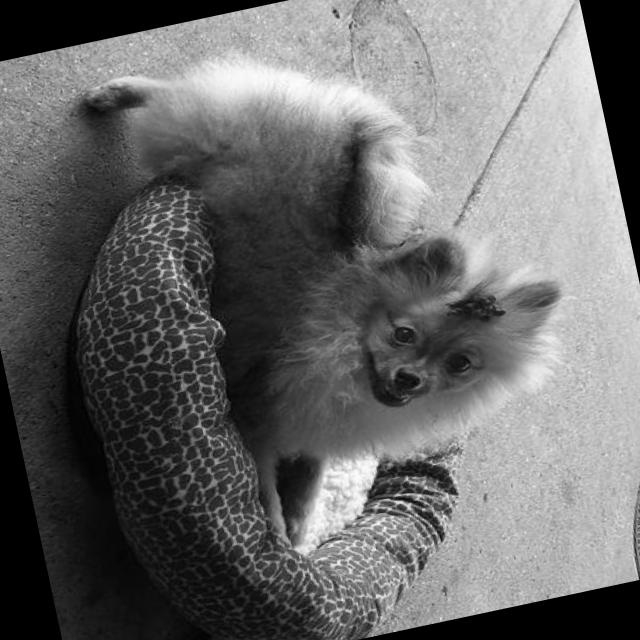laying down: (71, 0, 608, 573)
